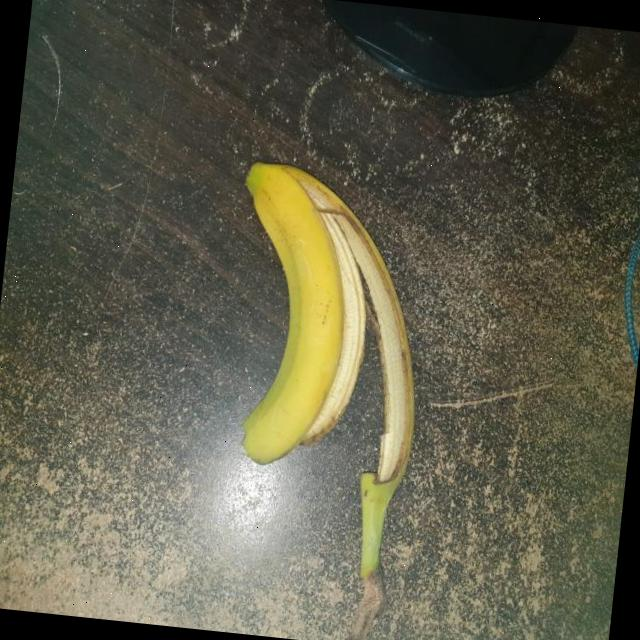banana-peel: (202, 157, 441, 582), (214, 157, 361, 470)
